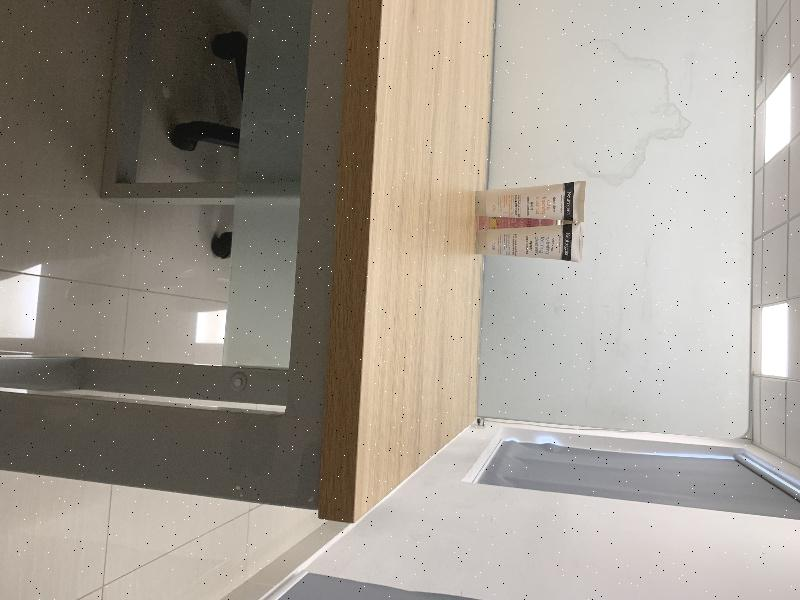AcneFoamingCleanser: (475, 181, 585, 222)
HydratingFoamingCleanser: (475, 222, 583, 263)
